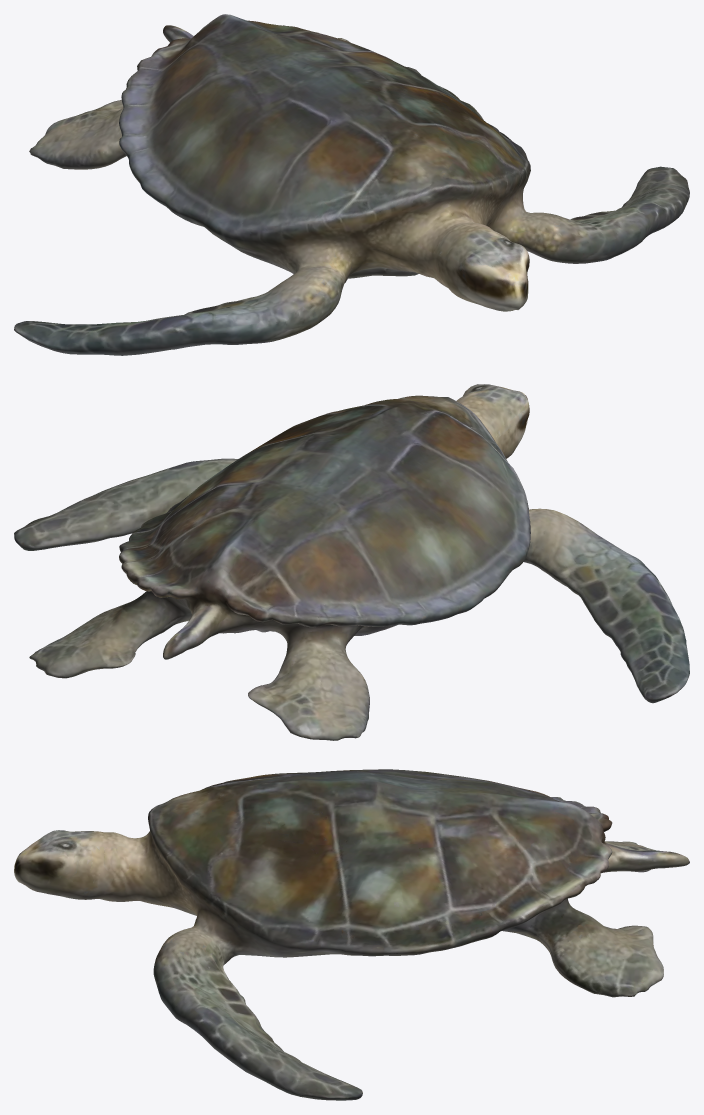
File: turtle.glb
3 renders of one model, top to bottom at view 1: azimuth 30°, elevation 25°; view 2: azimuth 150°, elevation 25°; view 3: azimuth 270°, elevation 25°, orthographic. The views are drawn at different scales.
Visible parts, largest first — view 1: Object_4; view 2: Object_4; view 3: Object_4.
Part boxes in pixels (x1,y1,x2,y2): Object_4: [14, 14, 689, 355]; Object_4: [14, 384, 689, 740]; Object_4: [14, 769, 689, 1100].
Bounding box in the file's own units: 2 × 0.5382 × 1.87.
Materials: 1 (1 with a texture image).
